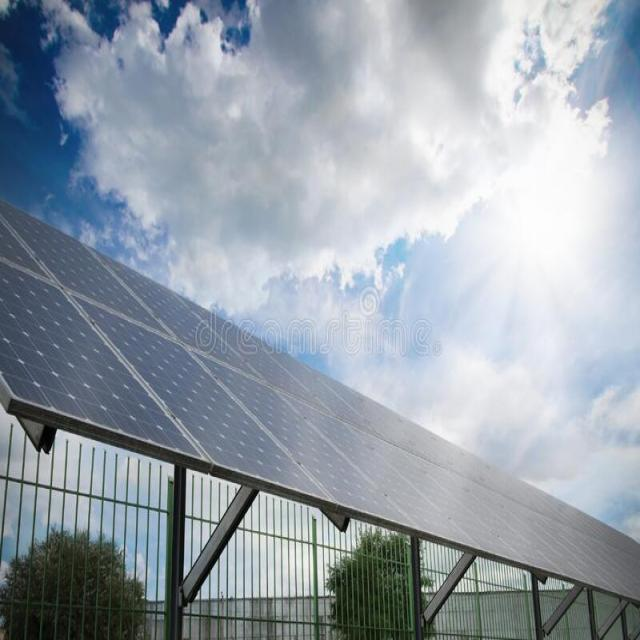clean-solar-panel: (0, 200, 640, 602)
